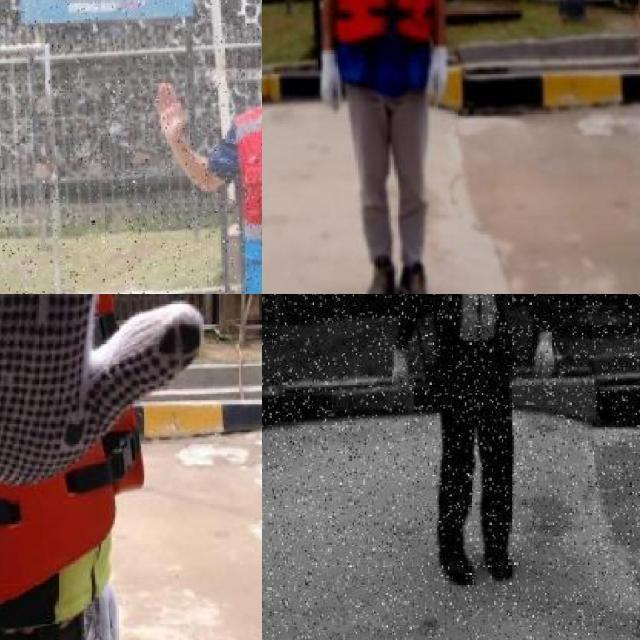apron: (0, 294, 208, 507), (76, 577, 127, 640), (318, 46, 344, 115), (423, 44, 449, 110), (532, 330, 558, 380), (391, 345, 414, 398)
